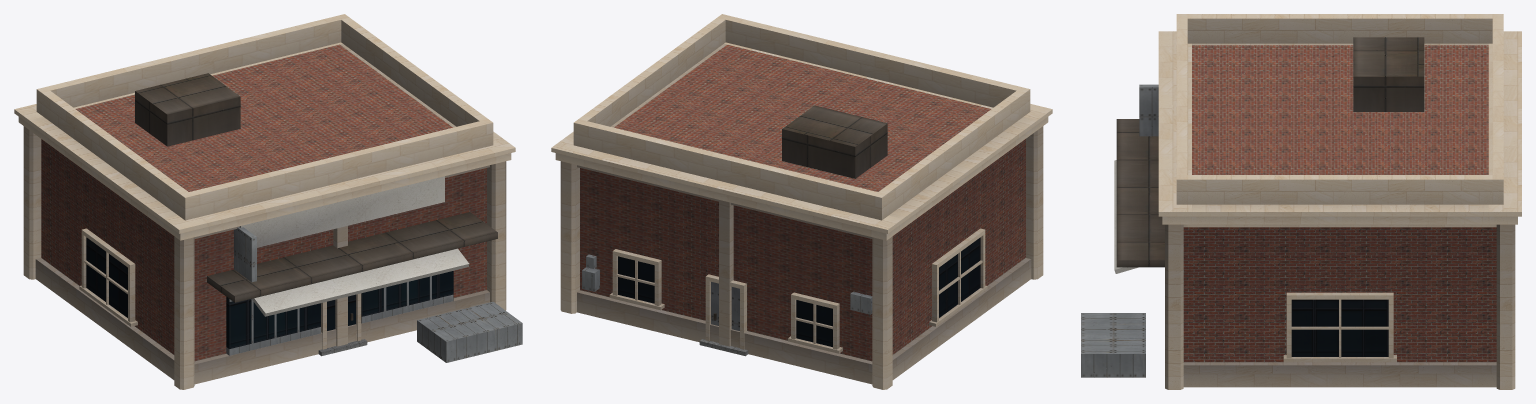
File: corner-crust-bakery_lod0.gltf
3 renders of one model, left to right at view 1: azimuth 30°, elevation 25°; view 2: azimuth 150°, elevation 25°; view 3: azimuth 270°, elevation 25°, orthographic. The views are drawn at different scales.
Visible parts, largest first — view 1: corner-crust-bakery__v4_stone_detail, corner-crust-bakery__parapet, corner-crust-bakery_main, corner-crust-bakery__v4_metal_detail, corner-crust-bakery_fen_07-glass-curtain-blue_1_t, corner-crust-bakery__sign_band, corner-crust-bakery__patio_tables, corner-crust-bakery__awning, corner-crust-bakery_fen_04-limestone_0, corner-crust-bakery_fen_14-steel-panel_4, corner-crust-bakery__blade_sign; view 2: corner-crust-bakery__v4_stone_detail, corner-crust-bakery_main, corner-crust-bakery__parapet, corner-crust-bakery__v4_metal_detail, corner-crust-bakery_fen_04-limestone_0, corner-crust-bakery_fen_07-glass-curtain-blue_1_t, corner-crust-bakery_fen_14-steel-panel_4; view 3: corner-crust-bakery__v4_stone_detail, corner-crust-bakery_main, corner-crust-bakery__parapet, corner-crust-bakery__v4_metal_detail, corner-crust-bakery_fen_07-glass-curtain-blue_1_t, corner-crust-bakery__patio_tables, corner-crust-bakery_fen_04-limestone_0, corner-crust-bakery__blade_sign, corner-crust-bakery__awning.
Part boxes in pixels (x1,y1,x2,y2): corner-crust-bakery__v4_stone_detail: (14,14,515,389); corner-crust-bakery__parapet: (75,44,452,191); corner-crust-bakery_main: (41,139,486,361); corner-crust-bakery__v4_metal_detail: (135,73,497,302); corner-crust-bakery_fen_07-glass-curtain-blue_1_t: (86,237,453,348); corner-crust-bakery__sign_band: (239,176,444,247); corner-crust-bakery__patio_tables: (417,301,522,362); corner-crust-bakery__awning: (252,248,469,316); corner-crust-bakery_fen_04-limestone_0: (79,228,361,349); corner-crust-bakery_fen_14-steel-panel_4: (226,276,453,355); corner-crust-bakery__blade_sign: (234,227,256,282); corner-crust-bakery__v4_stone_detail: (551,14,1052,389); corner-crust-bakery_main: (580,139,1025,361); corner-crust-bakery__parapet: (614,44,991,191); corner-crust-bakery__v4_metal_detail: (782,105,887,178); corner-crust-bakery_fen_04-limestone_0: (609,228,987,353); corner-crust-bakery_fen_07-glass-curtain-blue_1_t: (618,237,980,347); corner-crust-bakery_fen_14-steel-panel_4: (582,254,872,330); corner-crust-bakery__v4_stone_detail: (1158,14,1521,389); corner-crust-bakery_main: (1183,227,1496,362); corner-crust-bakery__parapet: (1192,45,1488,174); corner-crust-bakery__v4_metal_detail: (1116,37,1424,267); corner-crust-bakery_fen_07-glass-curtain-blue_1_t: (1291,299,1388,356); corner-crust-bakery__patio_tables: (1081,313,1145,377); corner-crust-bakery_fen_04-limestone_0: (1283,292,1396,362); corner-crust-bakery__blade_sign: (1139,84,1158,136); corner-crust-bakery__awning: (1114,160,1138,273).
Bounding box in the file's own units: 13.22 × 7.35 × 13.61.
